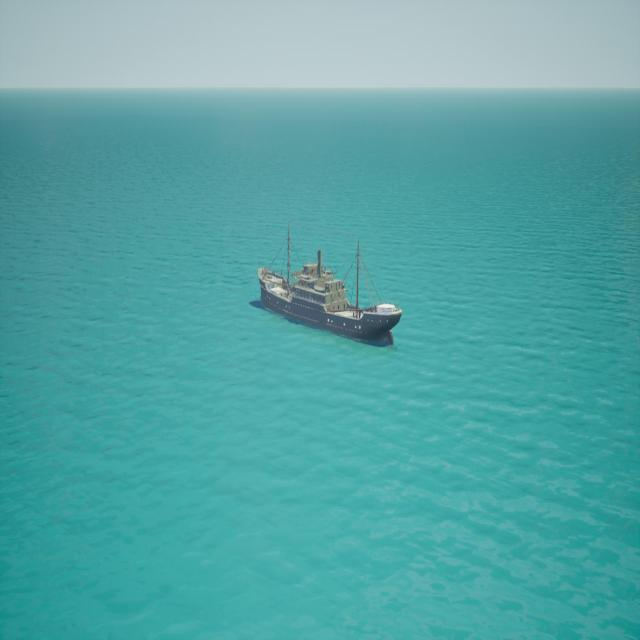fishing ship: (255, 230, 403, 346)
